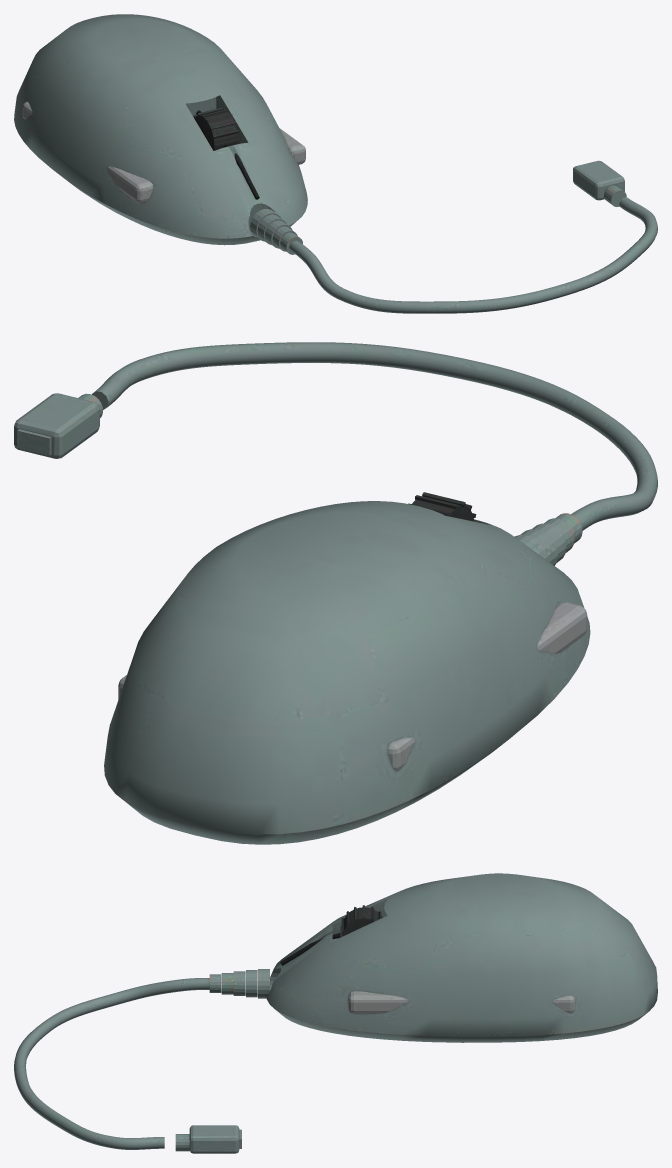
The model's file is mouse-d.glb.
The picture shows the model from 3 angles, top to bottom: view 1: azimuth 30°, elevation 25°; view 2: azimuth 150°, elevation 25°; view 3: azimuth 270°, elevation 25°; orthographic projection. The views are drawn at different scales.
Parts seen in each view (by area): view 1: so-baked; view 2: so-baked; view 3: so-baked.
Boxes of the visible parts, x1,y1,x2,y2 form: so-baked: (14, 14, 657, 313); so-baked: (14, 342, 657, 844); so-baked: (14, 873, 657, 1153).
Bounding box in the file's own units: 0.1493 × 0.0399 × 0.2069.
1 material, 1 textured.
